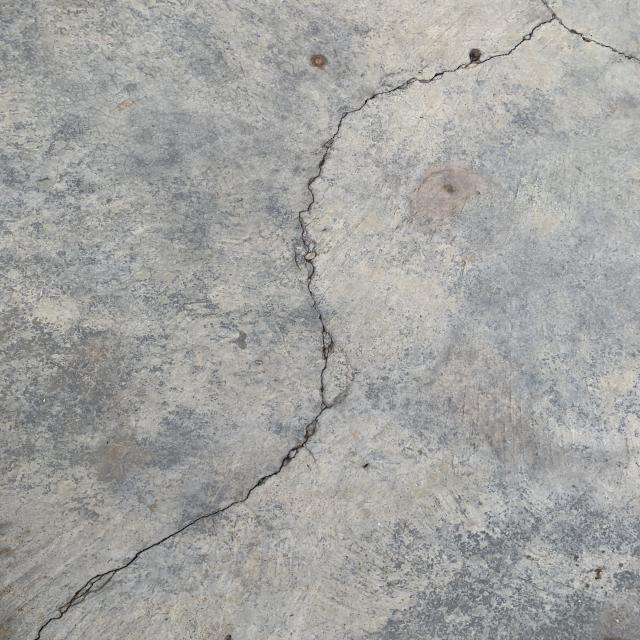diagonal crack: (0, 2, 585, 640)
